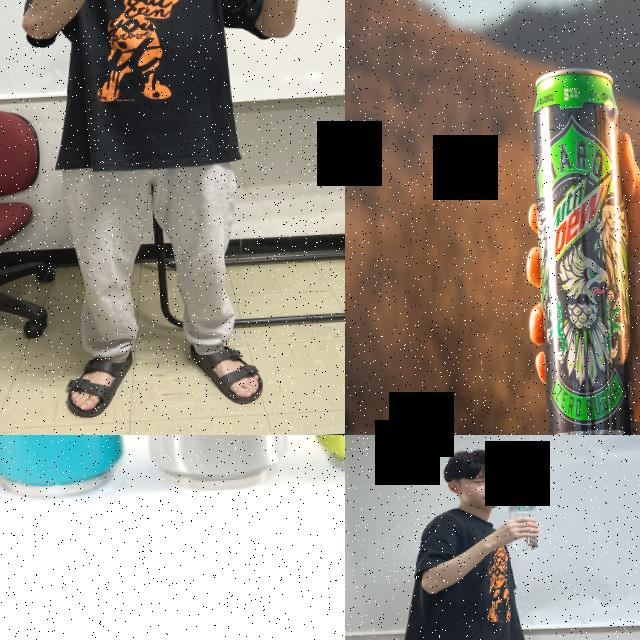bottle: (506, 475, 540, 548)
can: (528, 61, 640, 435), (135, 435, 294, 494)
